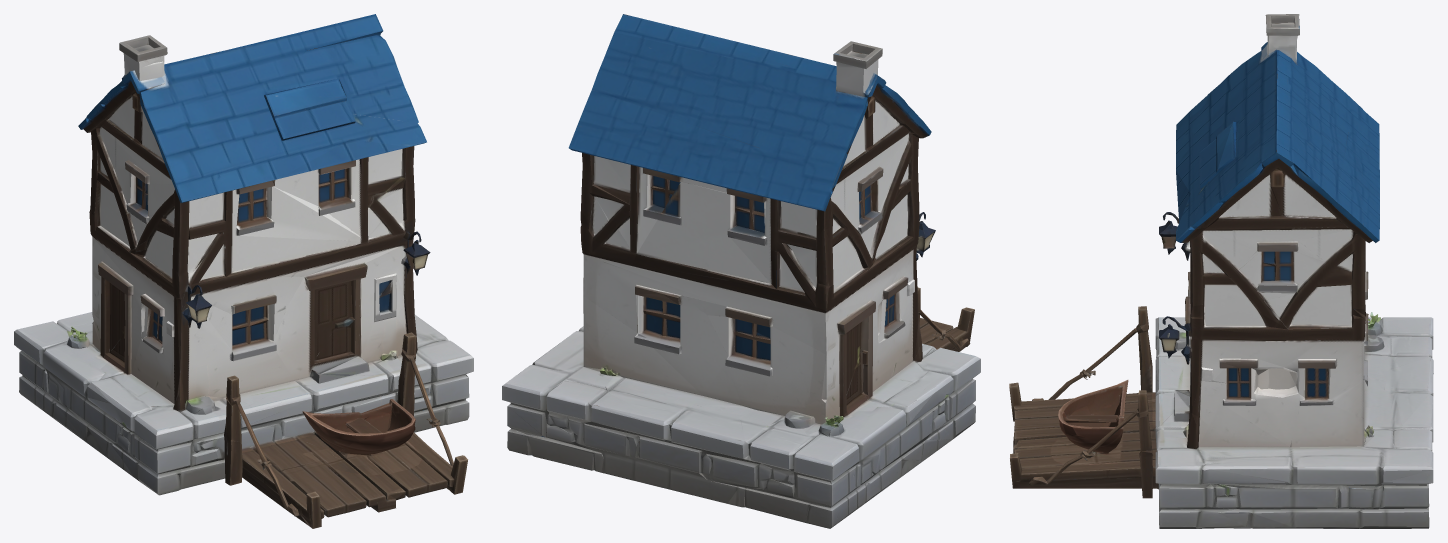
The model's file is canal_house.glb.
3 views of the same model, side by side, from view 1: azimuth 30°, elevation 25°; view 2: azimuth 150°, elevation 25°; view 3: azimuth 270°, elevation 25° (orthographic). The views are drawn at different scales.
Visible parts, largest first — view 1: canal_house; view 2: canal_house; view 3: canal_house.
Boxes of the visible parts, x1,y1,x2,y2 form: canal_house: (14, 14, 473, 528); canal_house: (502, 14, 980, 528); canal_house: (1009, 14, 1433, 528).
Bounding box in the file's own units: 7.63 × 9 × 9.01.
1 material, 1 textured.
